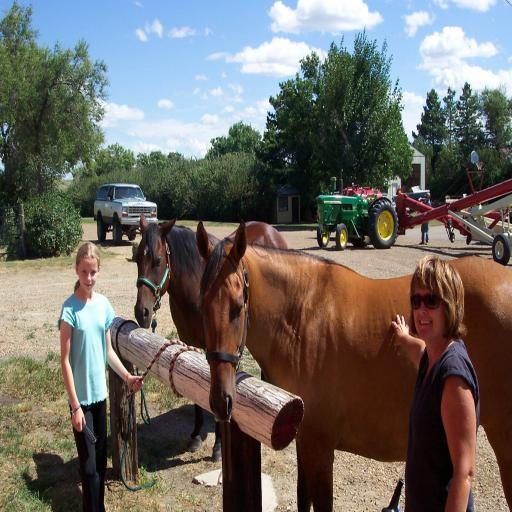Horse: (198, 219, 512, 511), (133, 211, 289, 461)
